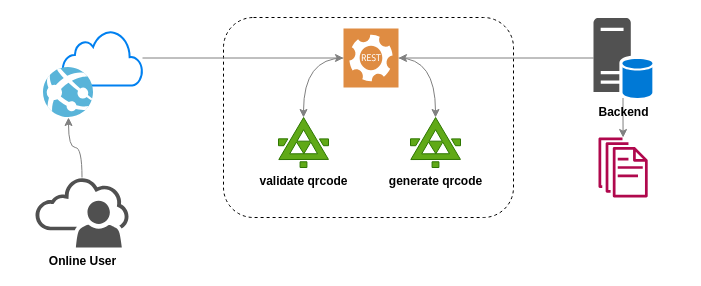
This 701x286 diagram has some shape labels left out. Each missing label, with the box of its shape:
QR Code Documents: (598, 137, 647, 197)
QR Code Validation Service: (43, 67, 93, 117)
